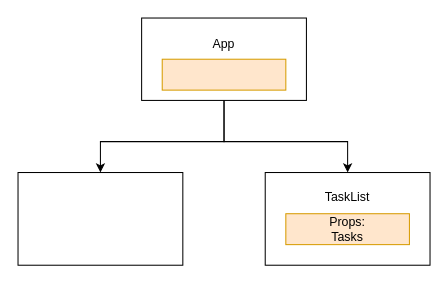
This 448x283 diagram has some shape labels left out. Here are the shapes that lost their labels. From the top down, the centre of each, then its label:
the point at 223,74: States: Tasks
the point at 100,218: AddTaskForm
